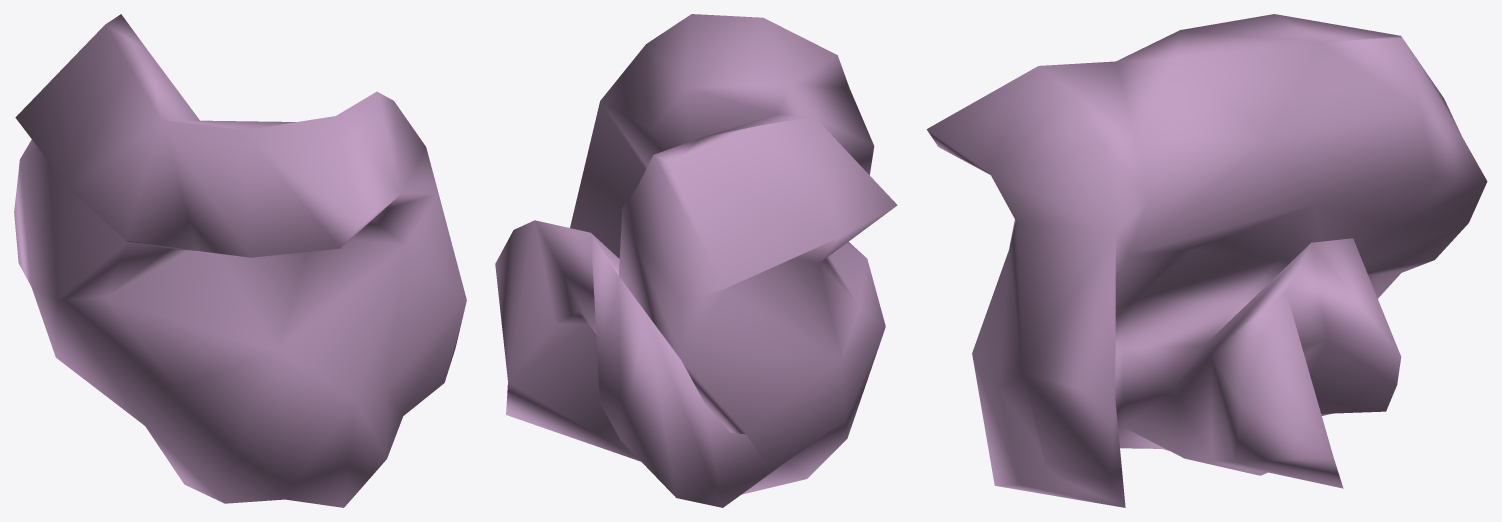
3 views of the same model, side by side, from view 1: azimuth 30°, elevation 25°; view 2: azimuth 150°, elevation 25°; view 3: azimuth 270°, elevation 25° (orthographic). The views are drawn at different scales.
Visible parts, largest first — view 1: 右侧眶外侧沟; view 2: 右侧眶外侧沟; view 3: 右侧眶外侧沟.
Part boxes in pixels (<box>): 右侧眶外侧沟: <box>14,14,466,507</box>; 右侧眶外侧沟: <box>495,14,897,507</box>; 右侧眶外侧沟: <box>926,14,1487,507</box>.
Bounding box in the file's own units: 0.0196 × 0.0208 × 0.0241.
